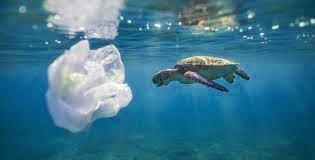Trash: (32, 30, 142, 128)
